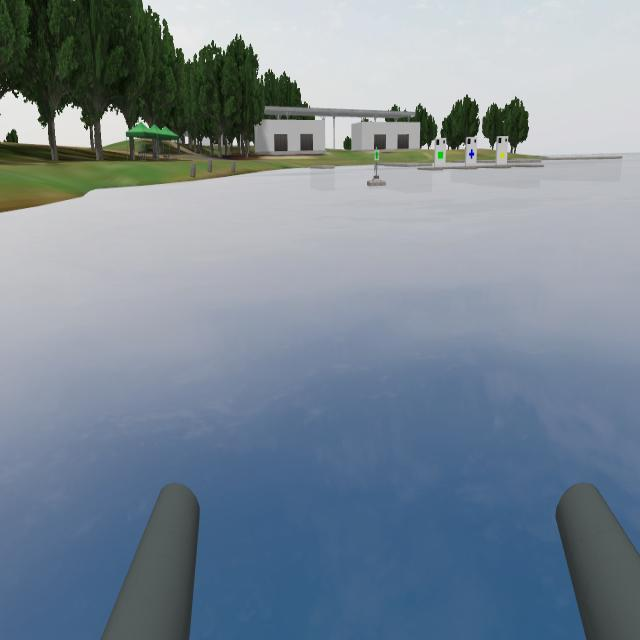green_pole: (372, 140, 382, 170)
